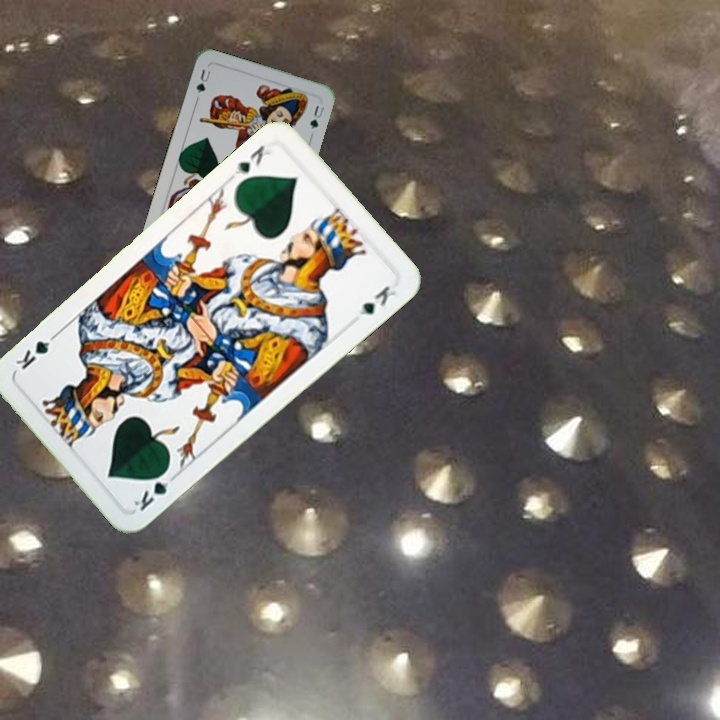GK: (129, 464, 180, 514), (226, 141, 273, 182)
GU: (192, 65, 214, 96)
